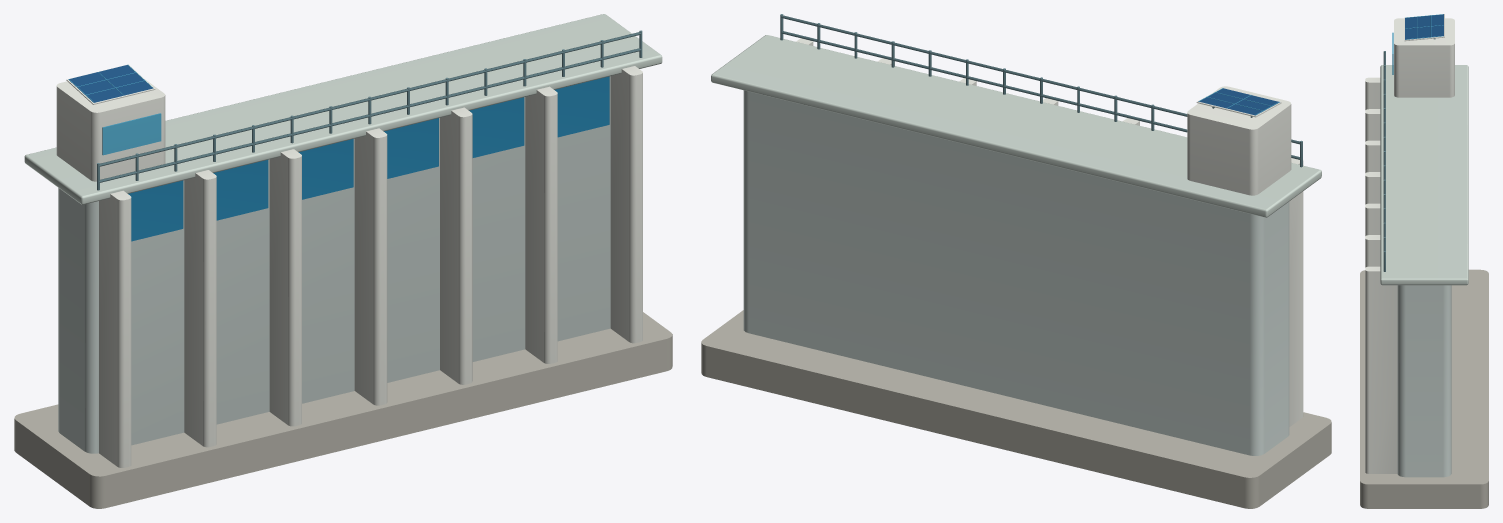
Rendered from river-dam-low.glb.
3 renders of one model, left to right at view 1: azimuth 30°, elevation 25°; view 2: azimuth 150°, elevation 25°; view 3: azimuth 270°, elevation 25°, orthographic. The views are drawn at different scales.
Parts seen in each view (by area): view 1: dam concrete breast, spillway buttress, dam footing, reservoir walkway, spillway dark opening, dam railing, control room windows, photovoltaic cells; view 2: dam concrete breast, dam footing, reservoir walkway, spillway buttress, dam railing, photovoltaic cells; view 3: reservoir walkway, spillway buttress, dam footing, dam concrete breast, photovoltaic cells, dam railing, control room windows.
Part boxes in pixels (left/top/right/bottom): dam concrete breast: left=58, top=76, right=610, bottom=453; spillway buttress: left=56, top=64, right=642, bottom=467; dam footing: left=14, top=312, right=672, bottom=508; reservoir walkway: left=24, top=14, right=662, bottom=204; spillway dark opening: left=128, top=76, right=609, bottom=241; dam railing: left=97, top=30, right=642, bottom=190; control room windows: left=68, top=64, right=161, bottom=155; photovoltaic cells: left=68, top=65, right=153, bottom=102; dam concrete breast: left=743, top=90, right=1289, bottom=455; dam footing: left=701, top=310, right=1331, bottom=508; reservoir walkway: left=711, top=35, right=1321, bottom=217; spillway buttress: left=796, top=38, right=1303, bottom=426; dam railing: left=780, top=14, right=1302, bottom=167; photovoltaic cells: left=1198, top=88, right=1279, bottom=115; reservoir walkway: left=1380, top=65, right=1468, bottom=285; spillway buttress: left=1365, top=14, right=1454, bottom=473; dam footing: left=1360, top=269, right=1488, bottom=508; dam concrete breast: left=1397, top=285, right=1451, bottom=477; photovoltaic cells: left=1405, top=14, right=1443, bottom=39; dam railing: left=1383, top=38, right=1435, bottom=271; control room windows: left=1392, top=14, right=1443, bottom=74.
Size of the model in its own units: 15 by 9.47 by 3.8.
